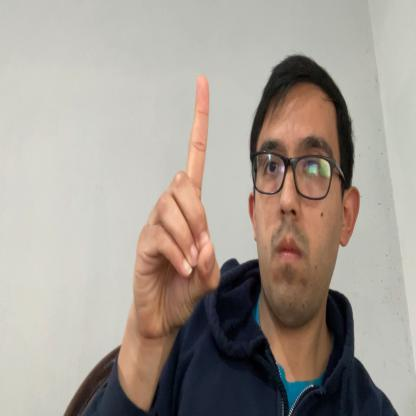D: (134, 76, 221, 334)
